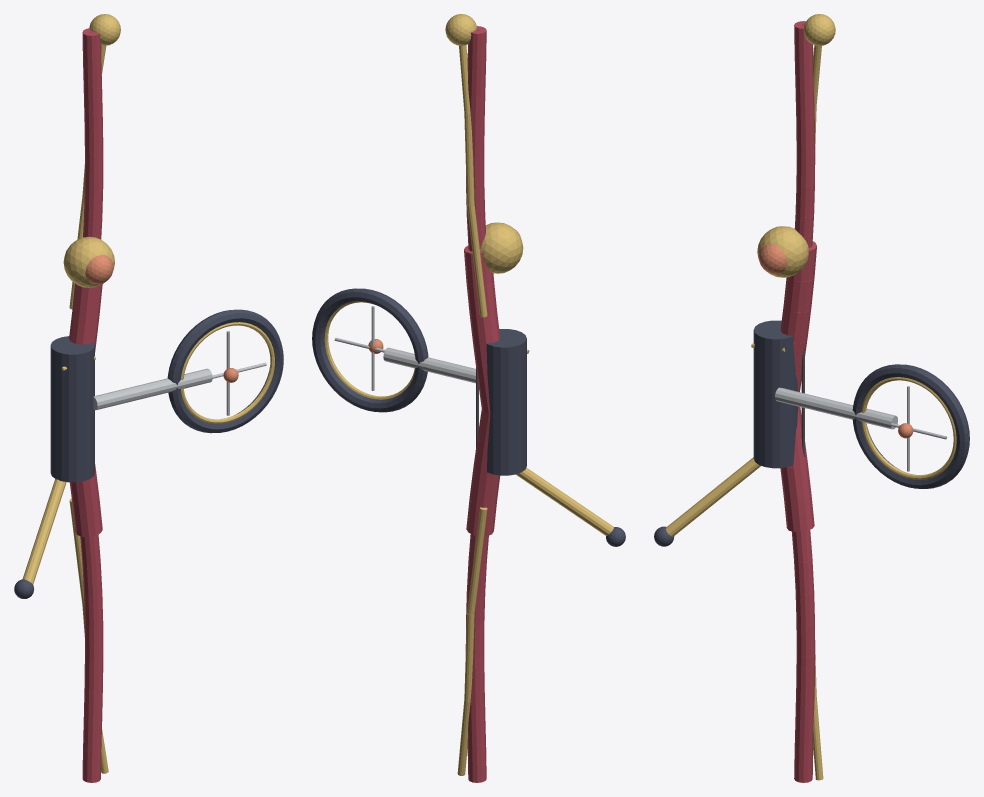
The model's file is arco_leao_de_fogo.glb.
The picture shows the model from 3 angles, left to right: view 1: azimuth 30°, elevation 25°; view 2: azimuth 150°, elevation 25°; view 3: azimuth 330°, elevation 25°; orthographic projection.
Visible parts, largest first — view 1: empunhadura, anel_mira_escuro, braco_da_mira, medalha, estabilizador, anel_mira_metalico, lamina_15, lamina_8, lamina_14, lamina_9, ponteira, lamina_23 (+14 smaller); view 2: empunhadura, anel_mira_escuro, medalha, estabilizador, braco_da_mira, friso_1_0, friso_-1_0, lamina_9, lamina_14, ponteira, friso_1_1, anel_mira_metalico (+9 smaller); view 3: empunhadura, anel_mira_escuro, braco_da_mira, medalha, estabilizador, anel_mira_metalico, lamina_8, lamina_9, lamina_15, ponteira, lamina_14, pedra_casa (+15 smaller).
Boxes of the visible parts, x1,y1,x2,y2 form: empunhadura: [50, 336, 94, 482]; anel_mira_escuro: [167, 309, 283, 433]; braco_da_mira: [93, 368, 212, 410]; medalha: [63, 236, 114, 287]; estabilizador: [22, 479, 66, 584]; anel_mira_metalico: [180, 322, 274, 423]; lamina_15: [72, 283, 102, 318]; lamina_8: [72, 499, 102, 537]; lamina_14: [69, 312, 99, 347]; lamina_9: [69, 469, 99, 506]; ponteira: [89, 14, 120, 45]; lamina_23: [82, 28, 101, 66]; empunhadura: [486, 329, 526, 475]; anel_mira_escuro: [312, 288, 428, 412]; medalha: [480, 222, 523, 273]; estabilizador: [516, 467, 613, 535]; braco_da_mira: [383, 347, 475, 383]; friso_1_0: [467, 204, 487, 317]; friso_-1_0: [467, 507, 487, 615]; lamina_9: [469, 468, 500, 506]; lamina_14: [469, 311, 500, 349]; ponteira: [445, 14, 476, 45]; friso_1_1: [464, 113, 474, 205]; anel_mira_metalico: [324, 301, 415, 399]; empunhadura: [753, 320, 797, 468]; anel_mira_escuro: [852, 364, 969, 488]; braco_da_mira: [775, 387, 897, 429]; medalha: [757, 226, 808, 277]; estabilizador: [665, 457, 761, 536]; anel_mira_metalico: [861, 377, 956, 479]; lamina_8: [783, 494, 814, 532]; lamina_9: [780, 461, 811, 499]; lamina_15: [783, 277, 814, 312]; ponteira: [804, 14, 835, 45]; lamina_14: [780, 305, 811, 343]; pedra_casa: [758, 244, 787, 274].
Size of the model in its own units: 1.23 by 3.09 by 0.366.
